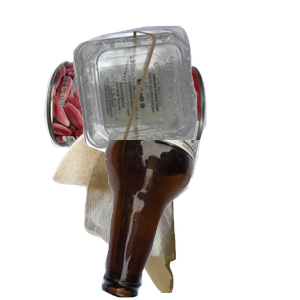glass: (99, 140, 300, 300)
metal: (41, 58, 240, 207)
plastic: (71, 23, 300, 169)
trash: (50, 120, 219, 300)
